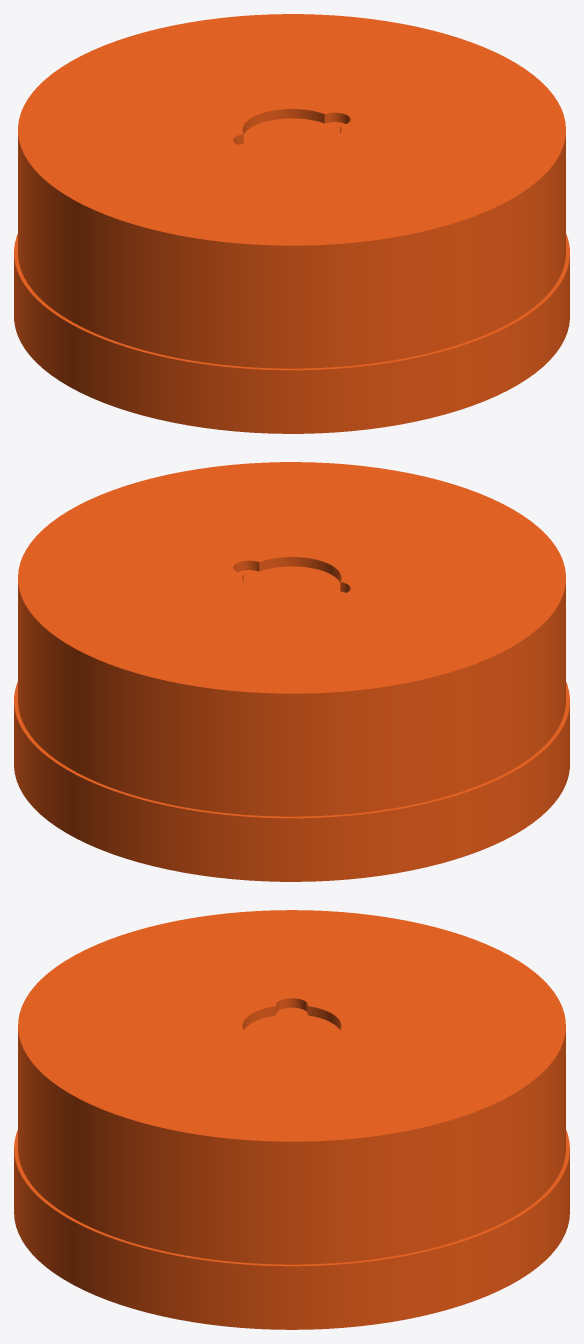
Rendered from lidar.dae.
The picture shows the model from 3 angles, top to bottom: view 1: azimuth 30°, elevation 25°; view 2: azimuth 150°, elevation 25°; view 3: azimuth 270°, elevation 25°; orthographic projection.
Visible parts, largest first — view 1: lidar; view 2: lidar; view 3: lidar.
Boxes of the visible parts, x1,y1,x2,y2 form: lidar: (14,14,569,433); lidar: (14,462,569,881); lidar: (14,910,569,1329).
Size of the model in its own units: 0.0697 by 0.0697 by 0.0258.
